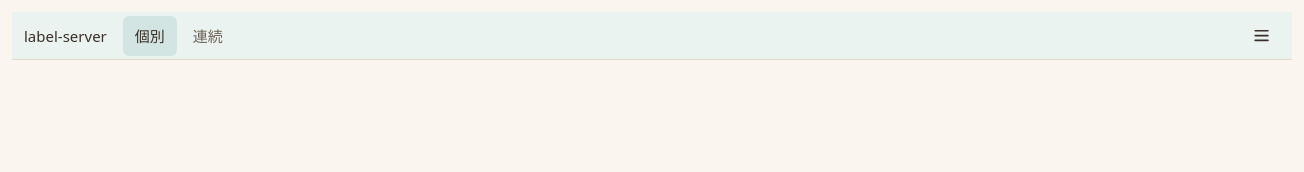
Test case: Header menu and theme flow › hamburger opens an anchored dropdown, not a dialog
The image size is (1304, 172).
Step 1. Click the button named "メニュー" → (1262, 36), box x1=1244 y1=18 x2=1280 y2=54
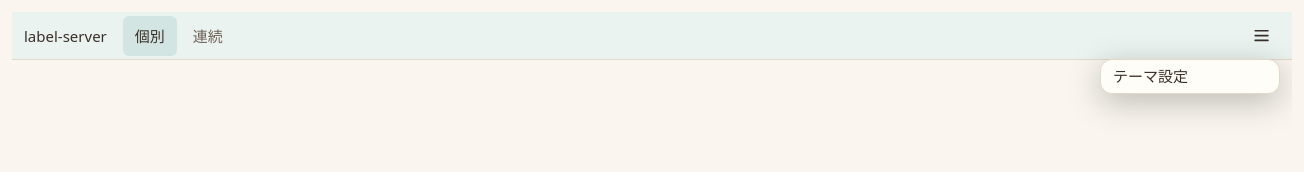
Result: the button "テーマ設定" is shown at x1=1101 y1=60 x2=1279 y2=93
